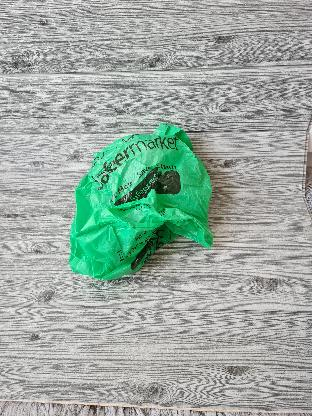Plastic Bag: (65, 124, 210, 286)
